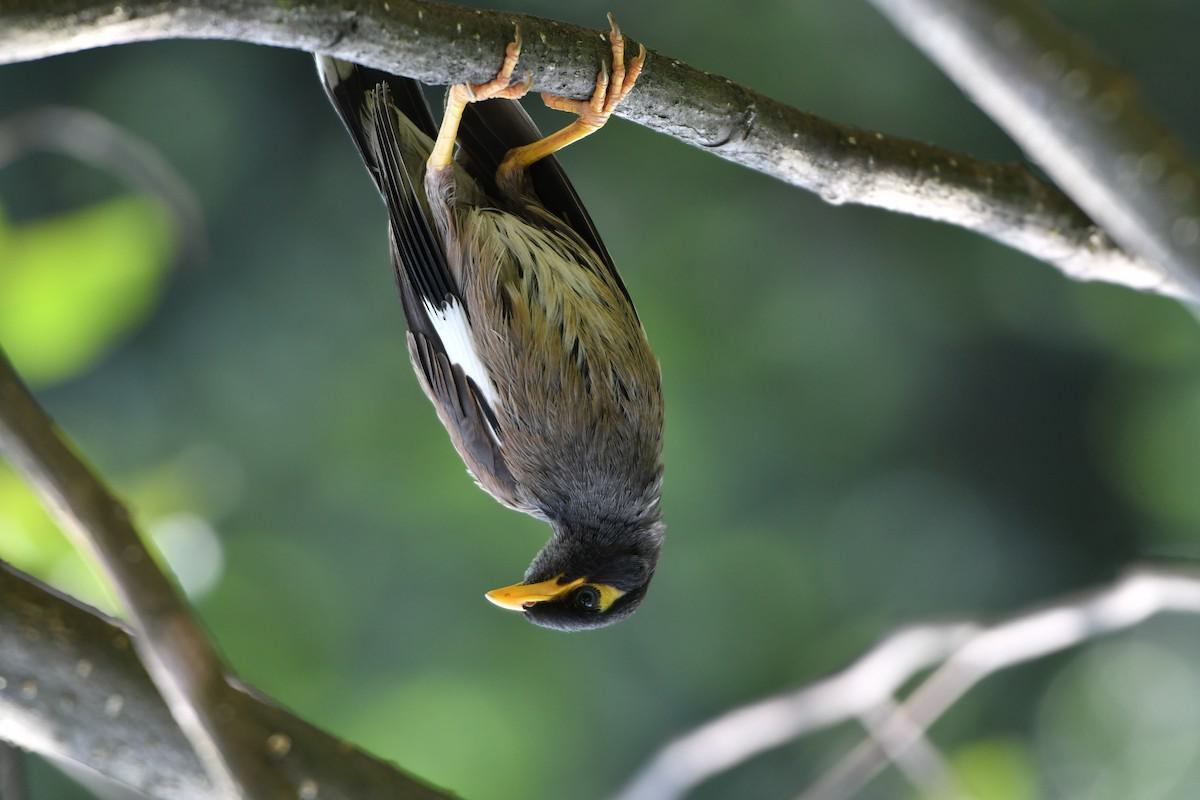myna: (348, 41, 681, 643)
